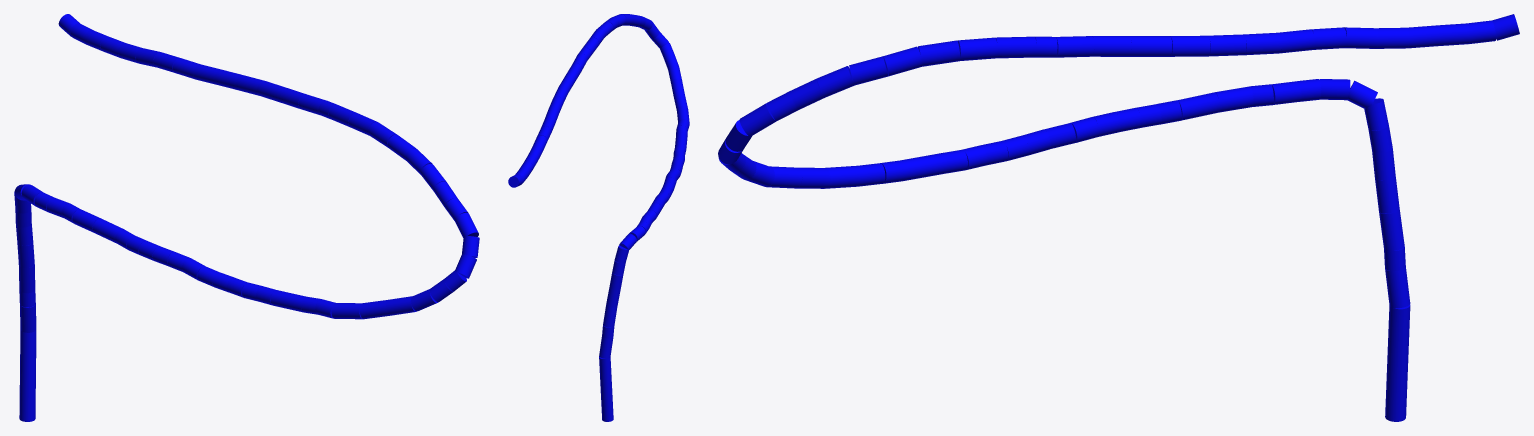
3 renders of one model, left to right at view 1: azimuth 30°, elevation 25°; view 2: azimuth 150°, elevation 25°; view 3: azimuth 270°, elevation 25°, orthographic. The views are drawn at different scales.
Visible parts, largest first — view 1: Cylinder(Clone) (×5); view 2: Cylinder(Clone) (×7); view 3: Cylinder(Clone) (×21).
Boxes of the visible parts, left/top/right/bottom form: Cylinder(Clone) (×5): left=19, top=290, right=416, bottom=421; Cylinder(Clone) (×7): left=599, top=233, right=637, bottom=421; Cylinder(Clone) (×21): left=817, top=29, right=1410, bottom=421.
Bounding box in the file's own units: 0.1613 × 0.2578 × 0.3825.
